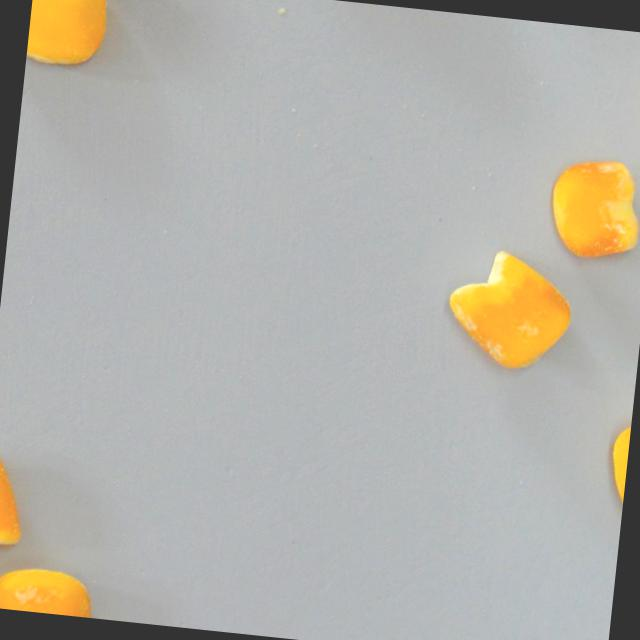dañado: (544, 152, 640, 264)
no_canjicado: (0, 444, 32, 575)
pelicula: (438, 239, 580, 380), (24, 0, 116, 79), (0, 563, 97, 618), (601, 411, 632, 521)
